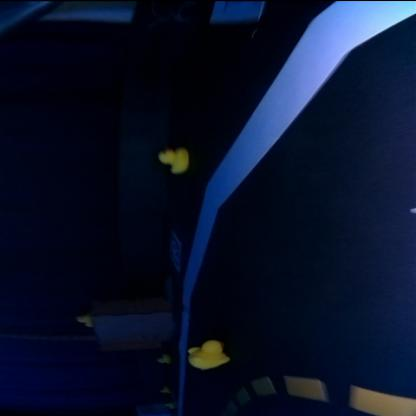Duckie: (189, 342, 229, 368), (158, 147, 188, 173), (75, 314, 91, 326), (156, 353, 170, 364), (159, 386, 169, 393), (164, 402, 172, 408)
QR code: (168, 233, 182, 270)
